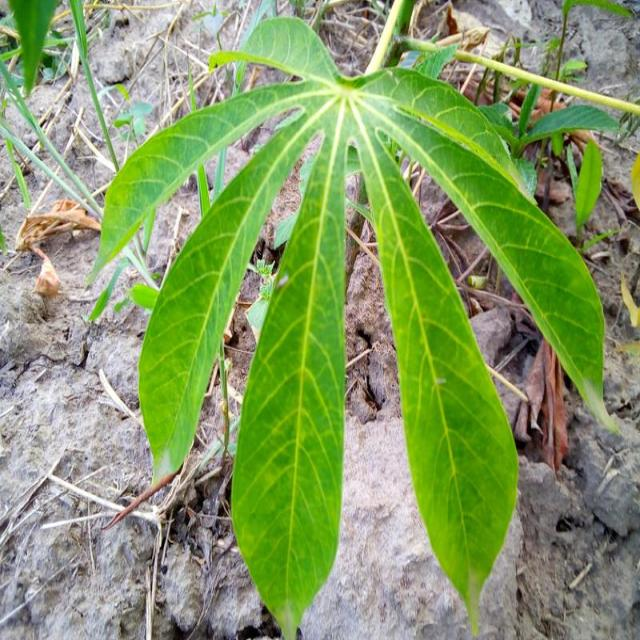cassava leaf: (86, 13, 617, 637), (230, 103, 350, 638)
